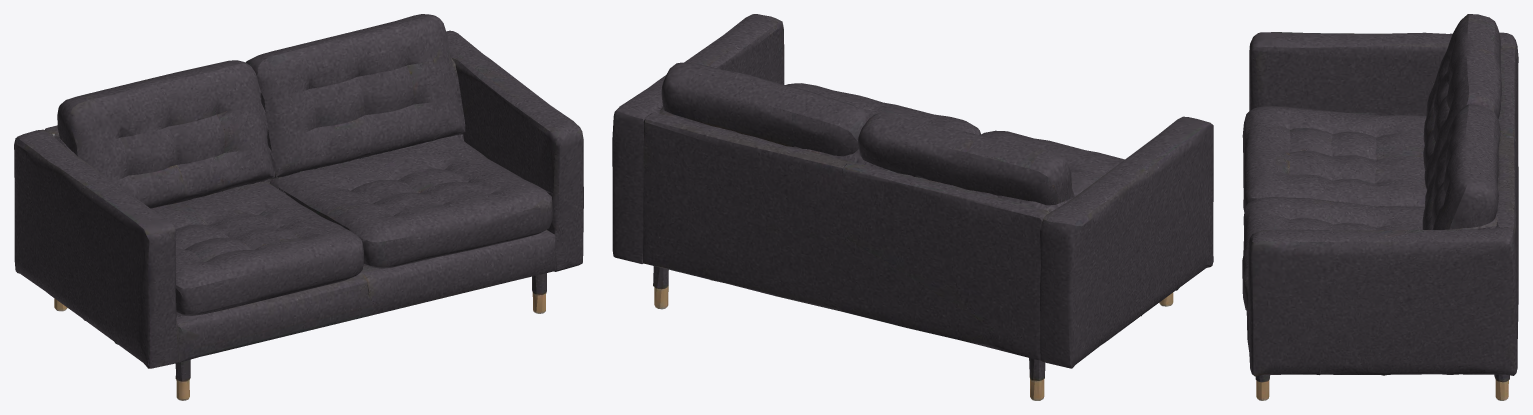
The model's file is 20 - LANDSKRONA - 雙人座沙發，Gunnared 深灰色木材 IKEA 線上購物.glb.
3 views of the same model, side by side, from view 1: azimuth 30°, elevation 25°; view 2: azimuth 150°, elevation 25°; view 3: azimuth 270°, elevation 25° (orthographic). The views are drawn at different scales.
Parts seen in each view (by area): view 1: ProcessedMeshNode; view 2: ProcessedMeshNode; view 3: ProcessedMeshNode.
Part boxes in pixels (x1,y1,x2,y2): ProcessedMeshNode: (14, 14, 583, 400); ProcessedMeshNode: (612, 14, 1213, 400); ProcessedMeshNode: (1242, 14, 1518, 400).
Size of the model in its own units: 1.66 by 0.7846 by 0.9092.
1 material, 1 textured.
